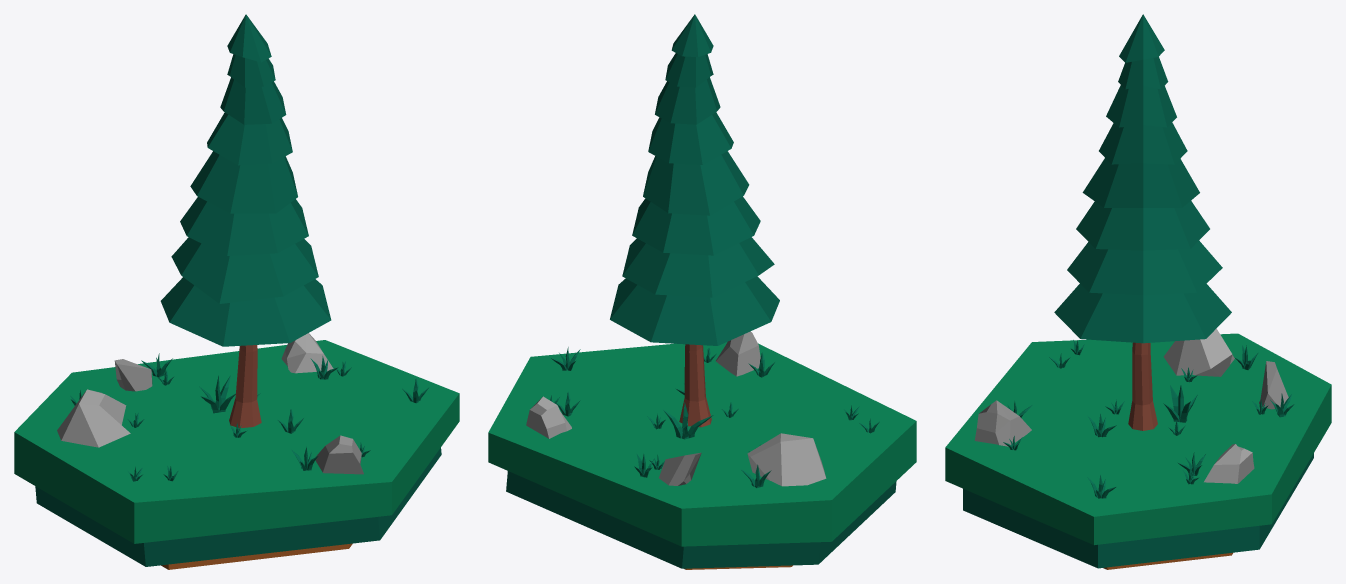
File: tree_lowpoly.glb
3 renders of one model, left to right at view 1: azimuth 30°, elevation 25°; view 2: azimuth 150°, elevation 25°; view 3: azimuth 270°, elevation 25°, orthographic.
Visible parts, largest first — view 1: Predefinito (×3), Fir01 (×2), Icosphere.002, Rock - 04 (×2), Icosphere; view 2: Predefinito (×2), Fir01 (×2), Icosphere.002, Rock - 04 (×2), Icosphere, Cube; view 3: Predefinito (×2), Fir01 (×2), Rock - 04 (×2), Icosphere.002, Icosphere, Cube.
Part boxes in pixels (x1,y1,x2,y2): Predefinito (×3): (14, 340, 459, 569); Fir01 (×2): (160, 14, 331, 428); Icosphere.002: (57, 389, 130, 447); Rock - 04 (×2): (281, 333, 363, 474); Icosphere: (114, 359, 152, 391); Predefinito (×2): (488, 342, 916, 568); Fir01 (×2): (610, 14, 779, 427); Icosphere.002: (747, 433, 826, 486); Rock - 04 (×2): (526, 331, 760, 438); Icosphere: (659, 452, 701, 485); Cube: (663, 402, 713, 439); Predefinito (×2): (945, 333, 1331, 568); Fir01 (×2): (1054, 14, 1231, 430); Rock - 04 (×2): (974, 400, 1254, 483); Icosphere.002: (1163, 328, 1234, 376); Icosphere: (1259, 361, 1288, 409); Cube: (1163, 385, 1197, 422).
Bounding box in the file's own units: 7.47 × 9.54 × 6.65.
